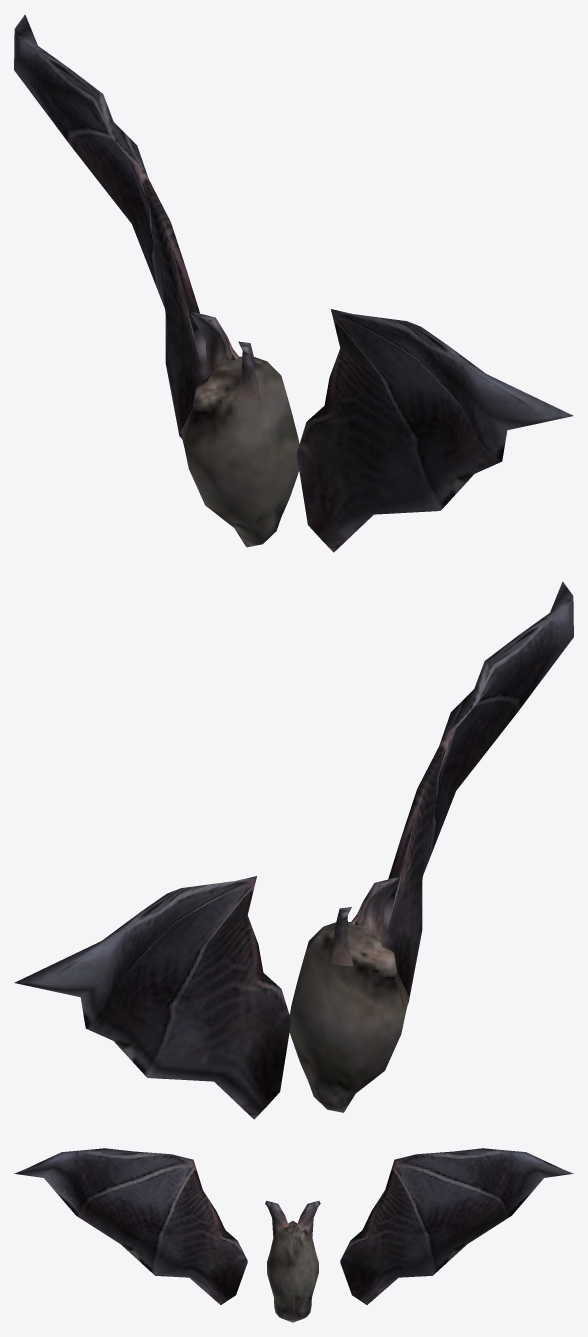
The model's file is Bat_Cutted.fbx.
The picture shows the model from 3 angles, top to bottom: view 1: azimuth 30°, elevation 25°; view 2: azimuth 150°, elevation 25°; view 3: azimuth 270°, elevation 25°; orthographic projection. The views are drawn at different scales.
Parts seen in each view (by area): view 1: Bat_type_01.002, Bat_type_01, Bat_type_01.001; view 2: Bat_type_01.001, Bat_type_01, Bat_type_01.002; view 3: Bat_type_01.001, Bat_type_01.002, Bat_type_01.
Part boxes in pixels (<box>): Bat_type_01.002: <box>296,309,573,552</box>; Bat_type_01: <box>180,311,299,547</box>; Bat_type_01.001: <box>14,14,206,438</box>; Bat_type_01.001: <box>14,876,291,1119</box>; Bat_type_01: <box>289,877,409,1112</box>; Bat_type_01.002: <box>383,581,573,1003</box>; Bat_type_01.001: <box>340,1148,573,1304</box>; Bat_type_01.002: <box>14,1148,247,1304</box>; Bat_type_01: <box>265,1200,320,1322</box>.
Size of the model in its own units: 6.45 by 16.98 by 49.29.
Materials: 1 (1 with a texture image).
